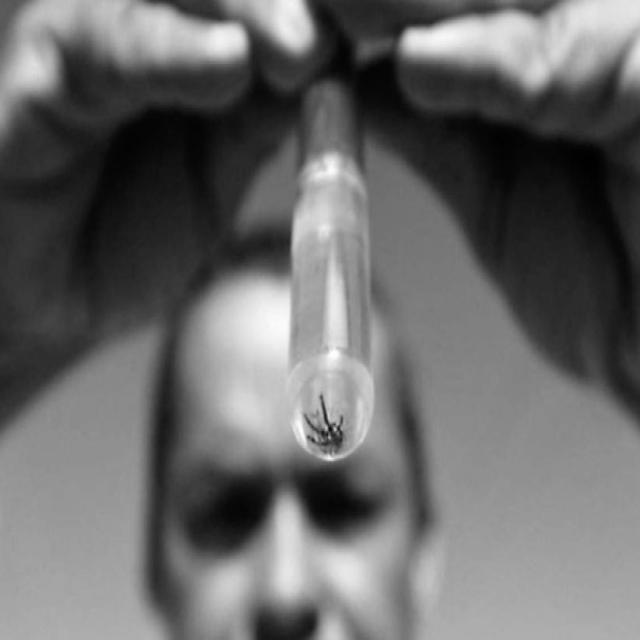larvas: (304, 412, 323, 437), (320, 392, 331, 431), (328, 418, 342, 444), (308, 438, 330, 448), (340, 413, 348, 432)
